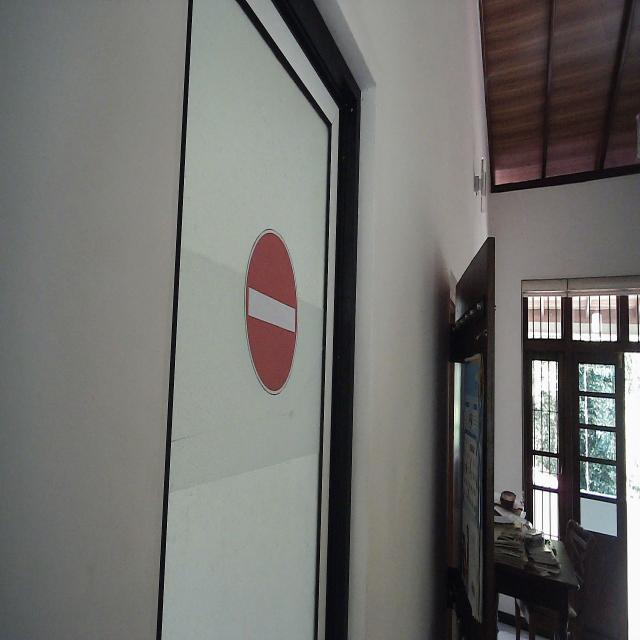no_entry: (243, 224, 299, 399)
